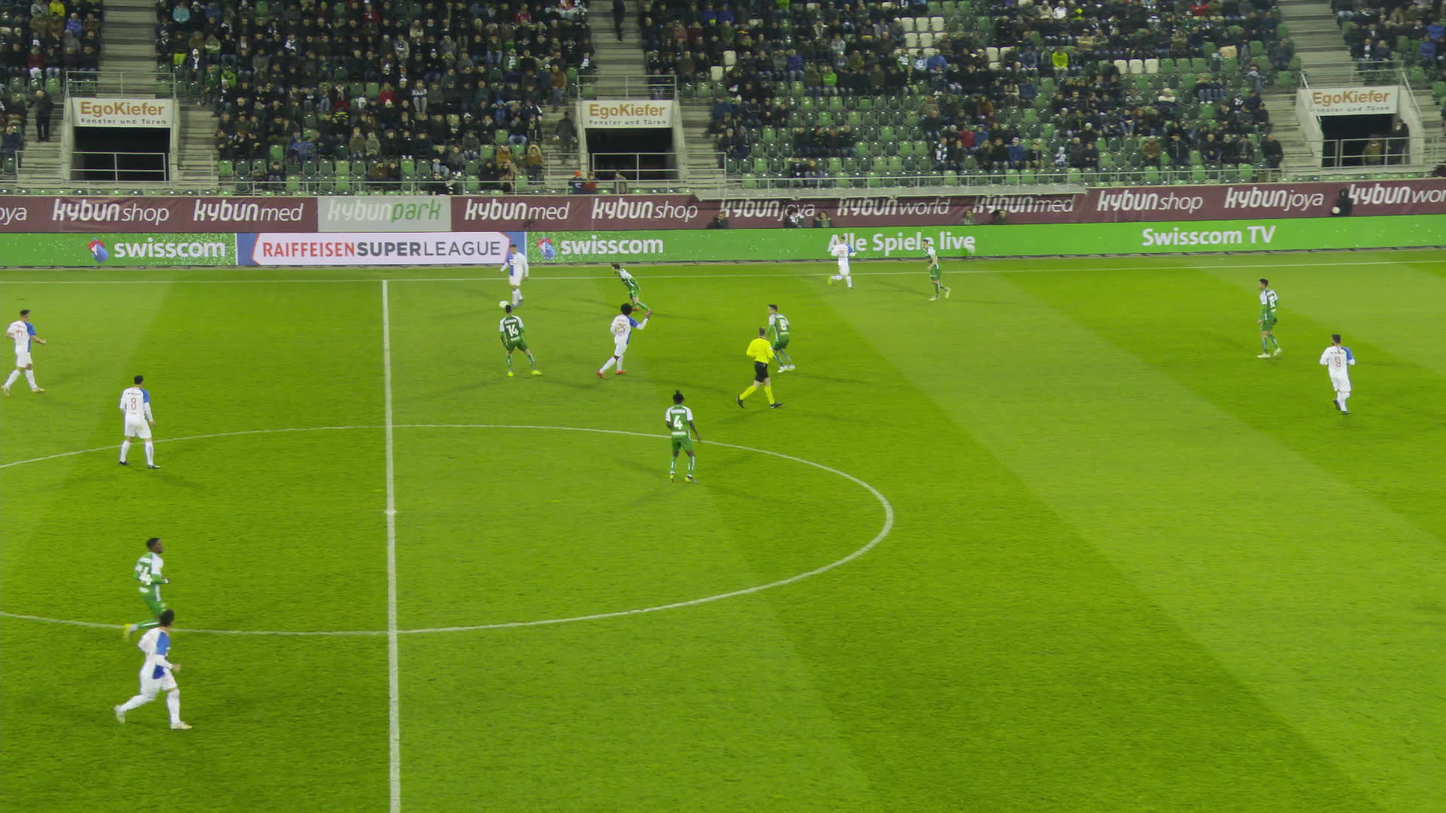ball: (502, 300, 511, 308)
player: (116, 534, 173, 652), (126, 614, 181, 730), (120, 374, 162, 467), (658, 391, 699, 483), (5, 312, 47, 396), (600, 306, 645, 379), (1320, 330, 1351, 416), (1249, 281, 1283, 359), (497, 303, 532, 376), (765, 307, 801, 373), (914, 239, 950, 300), (610, 262, 645, 314), (501, 245, 530, 307), (828, 232, 855, 291)
referee: (741, 328, 773, 410)
